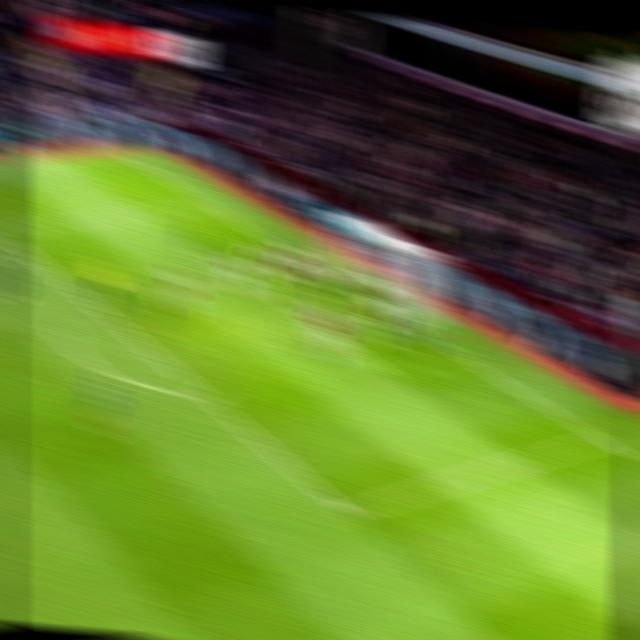bigarea_bottom_inner: (328, 493, 369, 539)
bigarea_bottom_outter: (582, 420, 621, 460)
bigarea_top_outter: (196, 191, 228, 222)
bottom_arc_area_intersection: (185, 376, 226, 416)
corner: (108, 143, 141, 168)
smallarea_bottom_inner: (373, 357, 406, 390)
smallarea_bottom_outter: (439, 341, 475, 369)
smallarea_top_inner: (209, 250, 243, 278)
top_arc_area_intersection: (66, 279, 101, 313)
